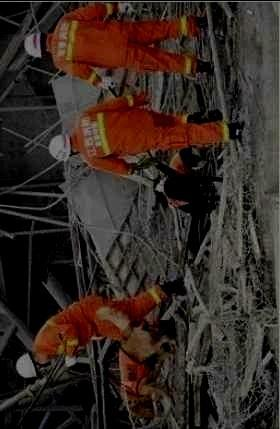helmet: (48, 133, 80, 163), (15, 352, 44, 378), (24, 32, 48, 58)
